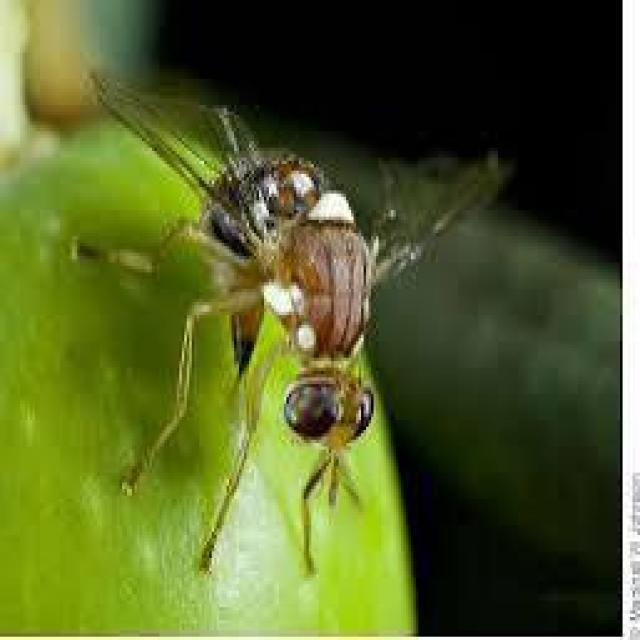Olive Fruit Fly: (90, 72, 511, 571)
